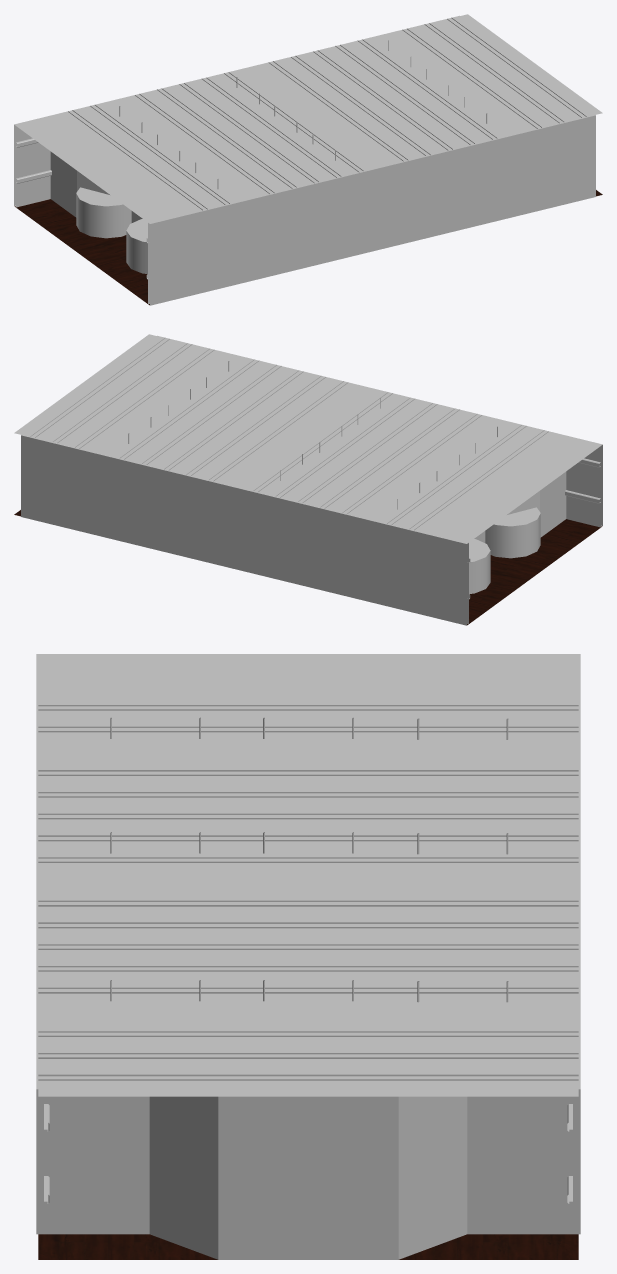
File: Bar_Structure.FBX
3 views of the same model, one above another, from view 1: azimuth 30°, elevation 25°; view 2: azimuth 150°, elevation 25°; view 3: azimuth 270°, elevation 25° (orthographic). The views are drawn at different scales.
Visible parts, largest first — view 1: Ceiling, WestWall, StructureBeams, Floor, Kitchen, EastWall, NorthWall; view 2: Ceiling, EastWall, StructureBeams, Floor, WestWall, Kitchen, NorthWall, SouthWall; view 3: Ceiling, SouthWall, StructureBeams, Floor, WestWall, EastWall, NorthWall, HangingLights.
Boxes of the visible parts, x1,y1,x2,y2 form: Ceiling: (15,14,602,223); WestWall: (146,114,595,305); StructureBeams: (68,17,586,210); Floor: (14,190,602,305); Kitchen: (76,187,147,273); EastWall: (14,15,460,207); NorthWall: (49,115,185,222); Ceiling: (14,334,600,543); EastWall: (21,434,470,625); StructureBeams: (30,337,548,530); Floor: (14,510,602,625); WestWall: (156,335,602,527); Kitchen: (469,507,540,593); NorthWall: (429,440,566,542); SouthWall: (40,340,178,440); Ceiling: (38,654,578,1096); SouthWall: (36,1067,580,1259); StructureBeams: (38,705,578,1080); Floor: (38,1234,578,1259); WestWall: (36,654,49,1203); EastWall: (567,654,580,1203); NorthWall: (36,688,580,716); HangingLights: (110,717,508,1002).
Size of the model in its own units: 40.67 by 7.88 by 21.15.
